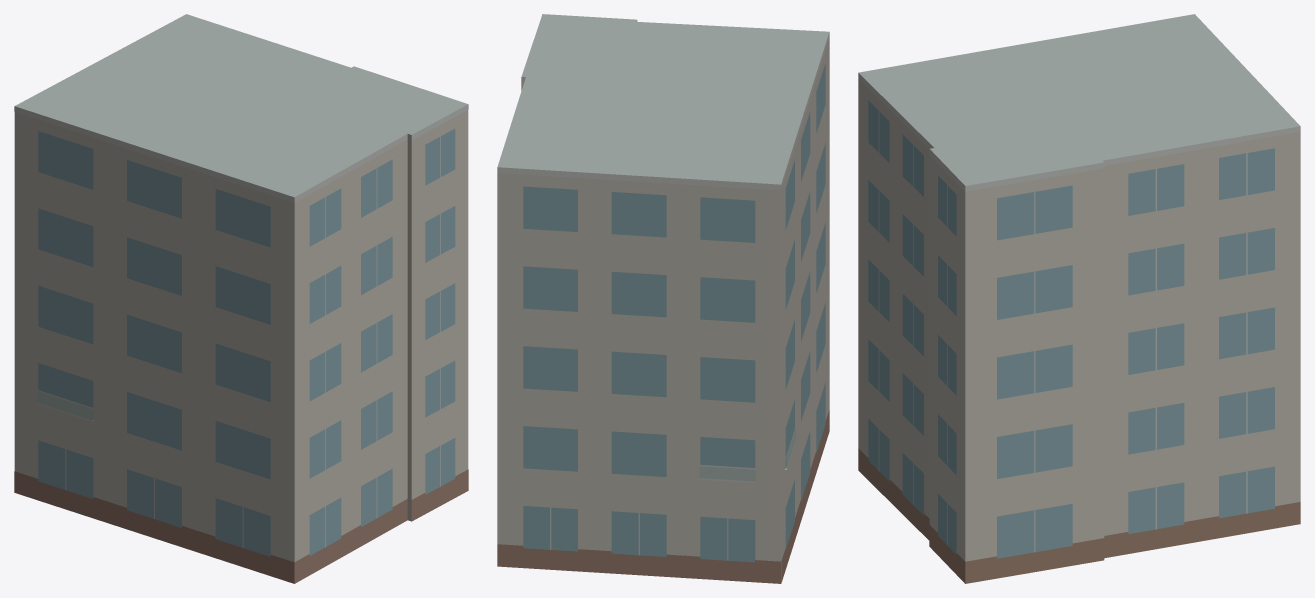
File: survey-upis-32844071.glb
3 renders of one model, left to right at view 1: azimuth 30°, elevation 25°; view 2: azimuth 150°, elevation 25°; view 3: azimuth 270°, elevation 25°, orthographic. The views are drawn at different scales.
Parts seen in each view (by area): view 1: survey-upis-32844071.tmp; view 2: survey-upis-32844071.tmp; view 3: survey-upis-32844071.tmp.
Boxes of the visible parts, x1,y1,x2,y2 form: survey-upis-32844071.tmp: [14, 14, 468, 583]; survey-upis-32844071.tmp: [497, 14, 829, 583]; survey-upis-32844071.tmp: [858, 14, 1300, 583].
Bounding box in the file's own units: 15.68 × 16.9 × 17.04.
